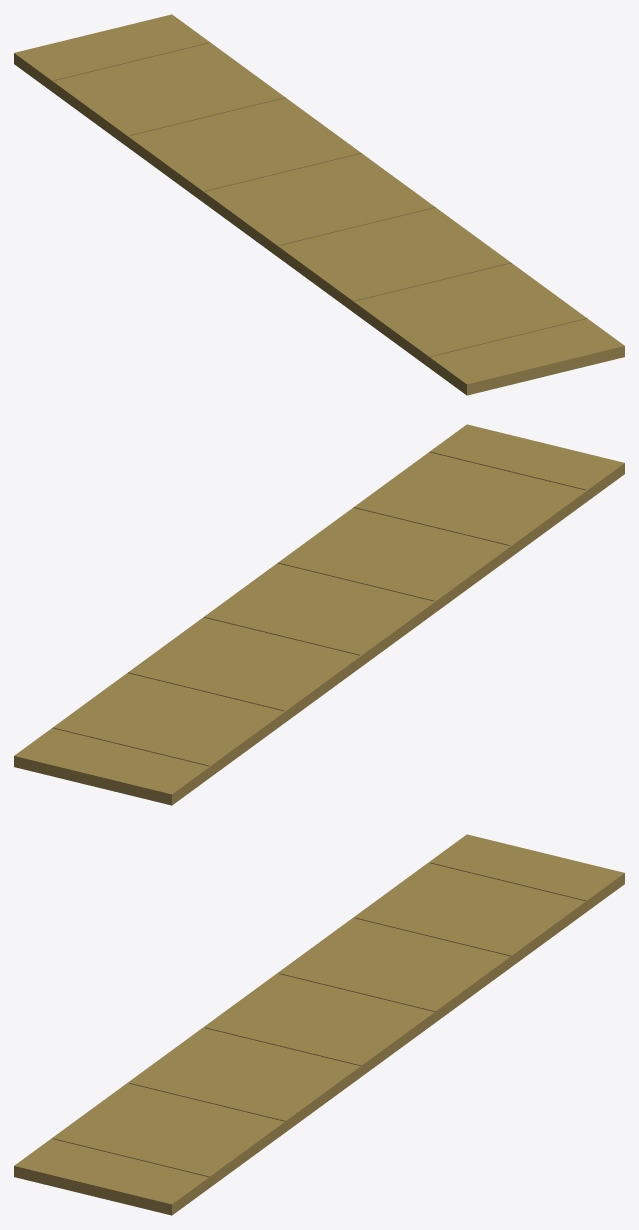
Rendered from SidewalkProp(OfficeScene).fbx.
The picture shows the model from 3 angles, top to bottom: view 1: azimuth 30°, elevation 25°; view 2: azimuth 150°, elevation 25°; view 3: azimuth 330°, elevation 25°; orthographic projection.
Parts seen in each view (by area): view 1: Sidewalk; view 2: Sidewalk; view 3: Sidewalk.
Part boxes in pixels (x1,y1,x2,y2): Sidewalk: (14, 14, 624, 395); Sidewalk: (14, 424, 624, 805); Sidewalk: (14, 834, 624, 1215).
Size of the model in its own units: 149 by 10.07 by 741.
